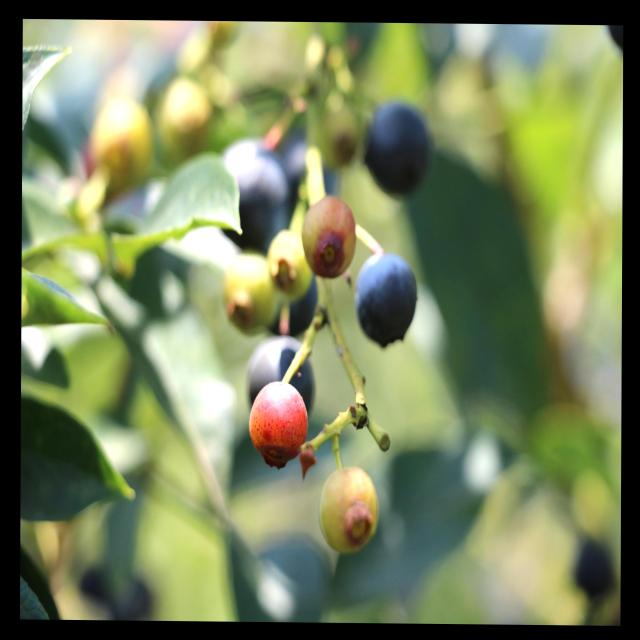blueberry: (202, 126, 293, 268), (356, 92, 441, 204), (242, 326, 322, 431), (350, 248, 425, 352), (276, 124, 348, 226), (258, 258, 324, 346)
blueberry-halfripe: (248, 382, 309, 471), (300, 192, 359, 279)
blueberry-unripe: (318, 467, 377, 554), (219, 251, 273, 331)
